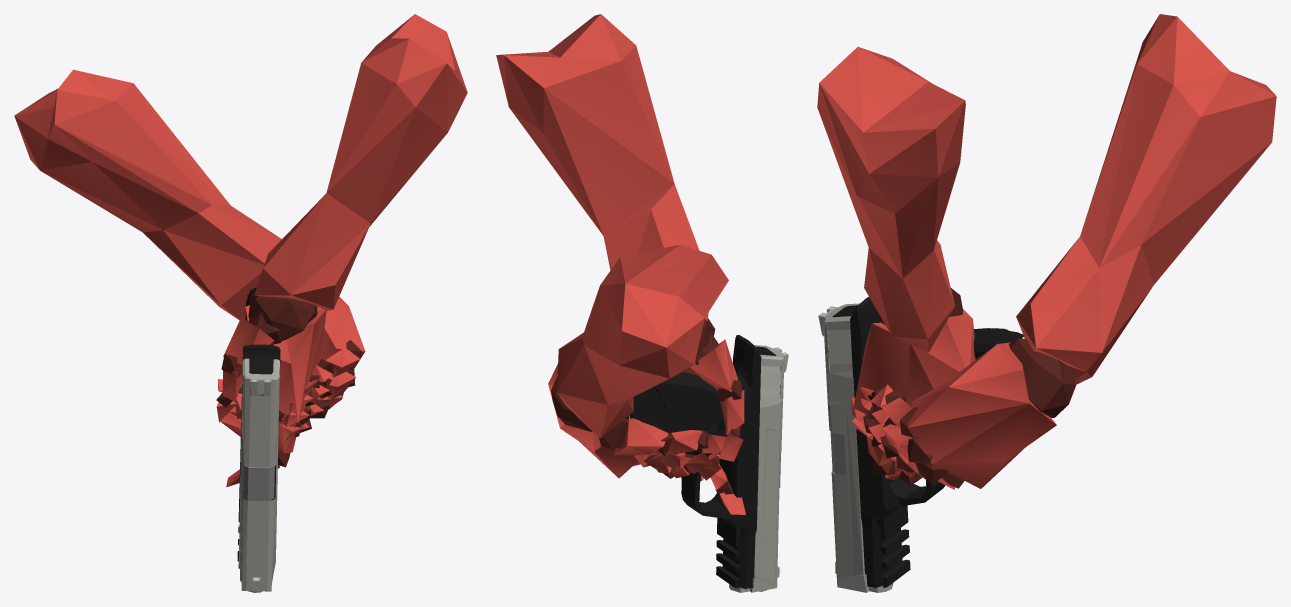
Rendered from M&P9shootExtendLowPoly_000024.obj.
3 views of the same model, side by side, from view 1: azimuth 30°, elevation 25°; view 2: azimuth 150°, elevation 25°; view 3: azimuth 270°, elevation 25° (orthographic). The views are drawn at different scales.
Visible parts, largest first — view 1: Beta_Surface, slide_平面.002, Beta_Joints, barrel_円.001, body_平面; view 2: Beta_Surface, body_平面, slide_平面.002, Beta_Joints; view 3: Beta_Surface, body_平面, slide_平面.002, Beta_Joints.
Part boxes in pixels (<box>): Beta_Surface: <box>14,14,467,487</box>; slide_平面.002: <box>238,358,279,591</box>; Beta_Joints: <box>216,292,362,467</box>; barrel_円.001: <box>243,465,274,592</box>; body_平面: <box>237,287,280,568</box>; Beta_Surface: <box>496,14,745,514</box>; body_平面: <box>629,335,761,589</box>; slide_平面.002: <box>729,345,788,592</box>; Beta_Joints: <box>551,318,741,501</box>; Beta_Surface: <box>817,14,1276,489</box>; body_平面: <box>850,297,1023,588</box>; slide_平面.002: <box>818,303,893,592</box>; Beta_Joints: <box>863,288,1076,488</box>.
Bounding box in the file's own units: 46.82 × 74.61 × 49.25.
